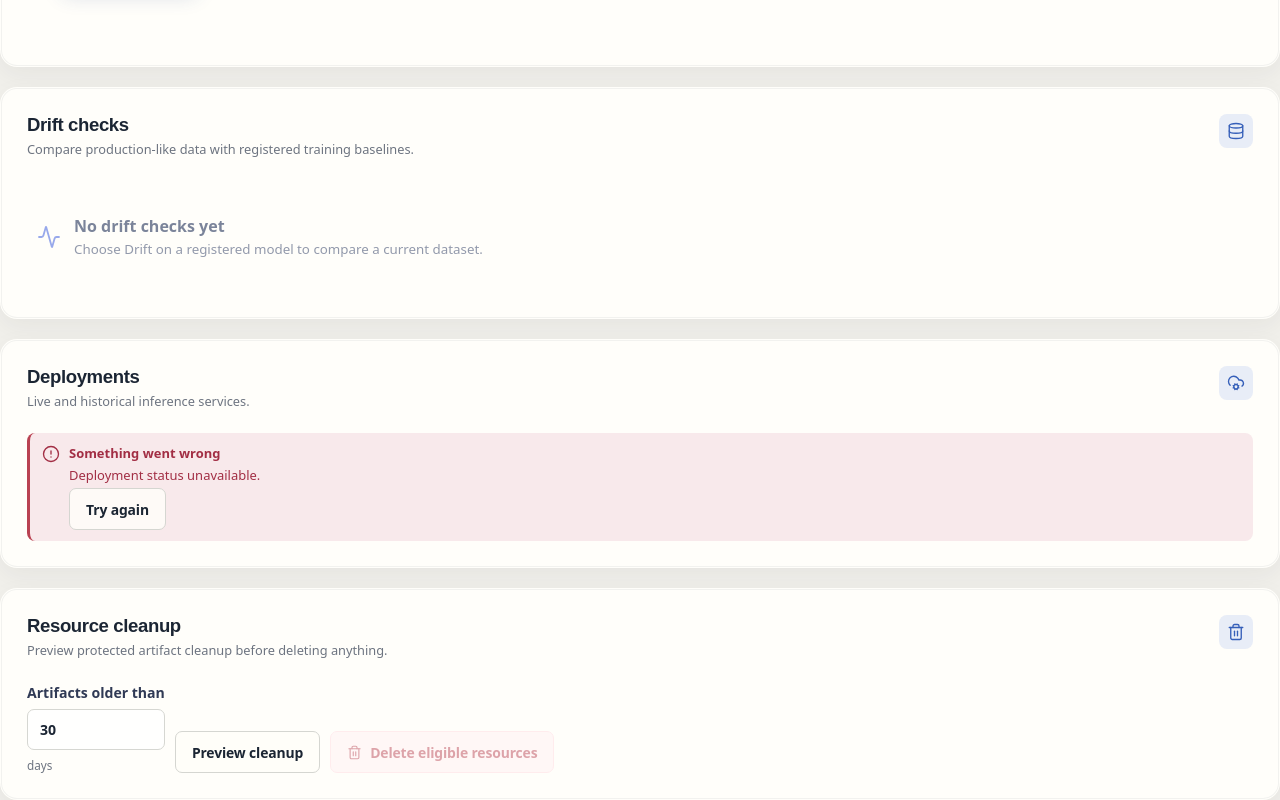
Test case: core workflow integrations › shows deployment request failures and recovers on retry
(page scrolled)
Expected: the text "Deployment status unavailable." is shown, [69,465,260,486]
Click the button "Try again" at (117, 510), box [69,488,166,530]
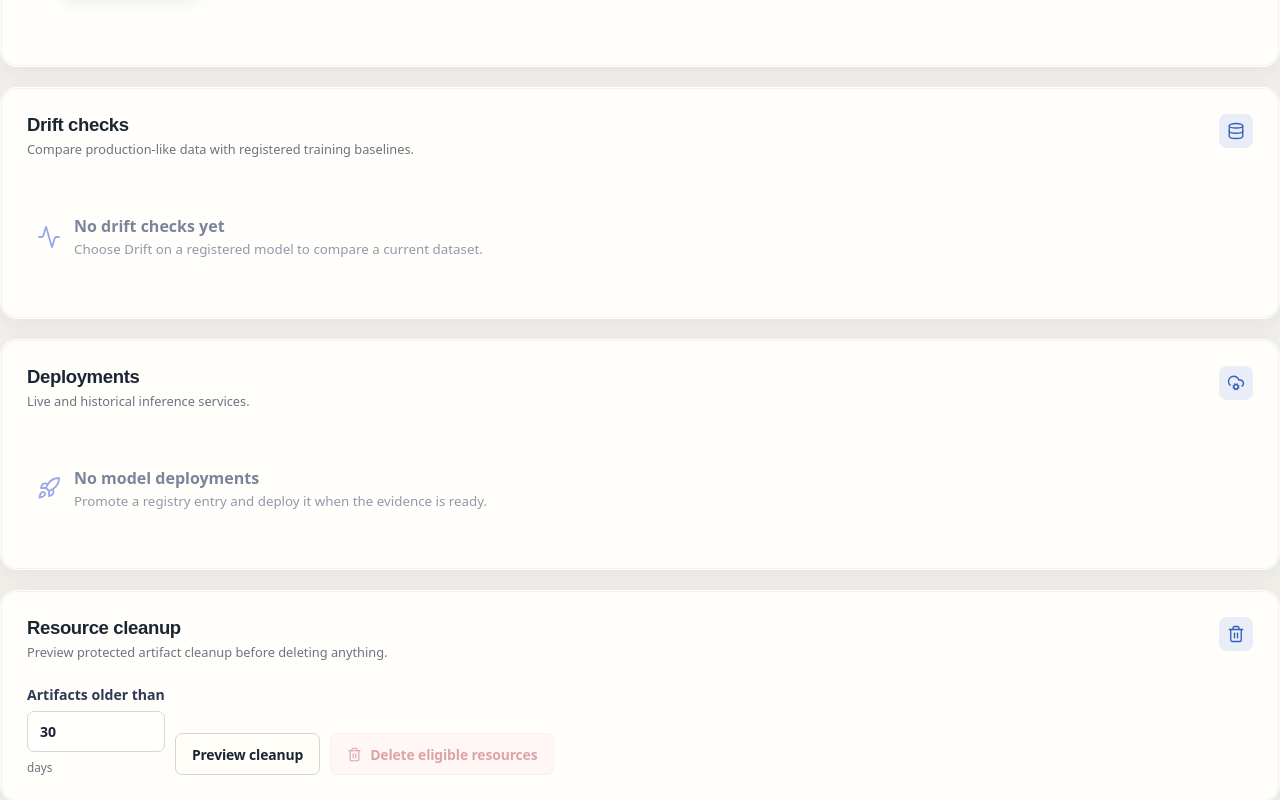
Now the text "No model deployments" is shown, box [74,467,259,489]
